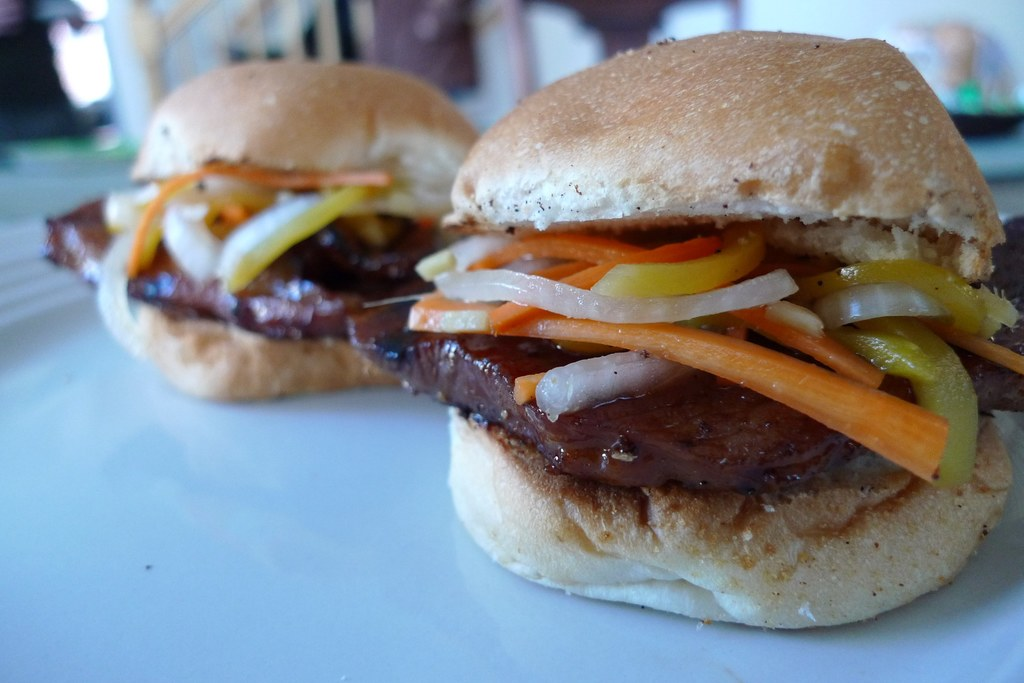Hamburger: (387, 36, 1023, 633), (46, 60, 482, 403)
